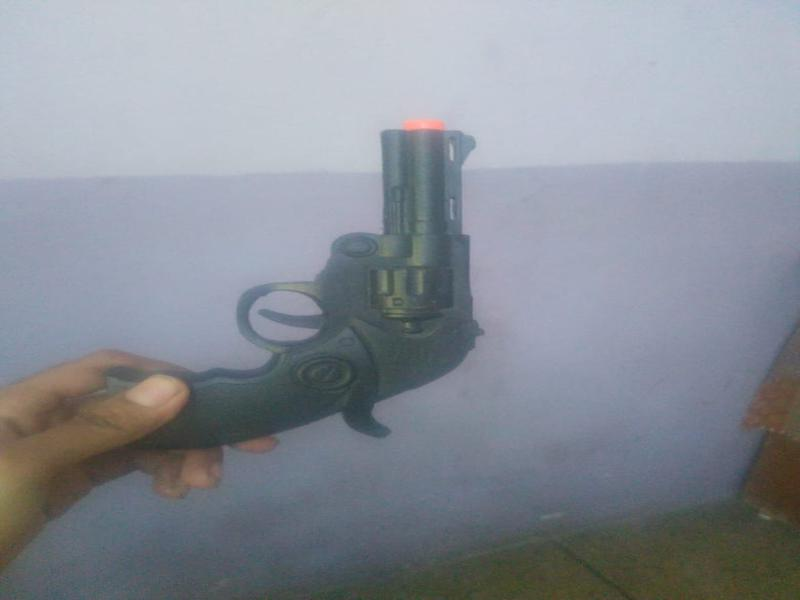gun: (176, 98, 522, 462)
